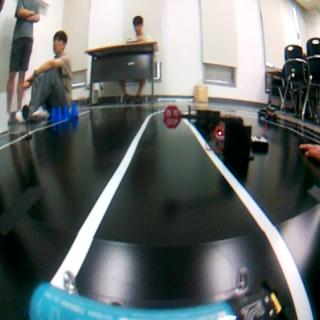stop: (163, 107, 183, 131)
